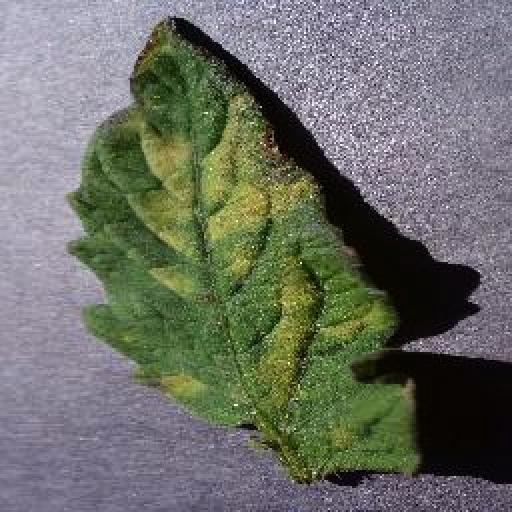disease_tomato: (60, 16, 422, 490)
